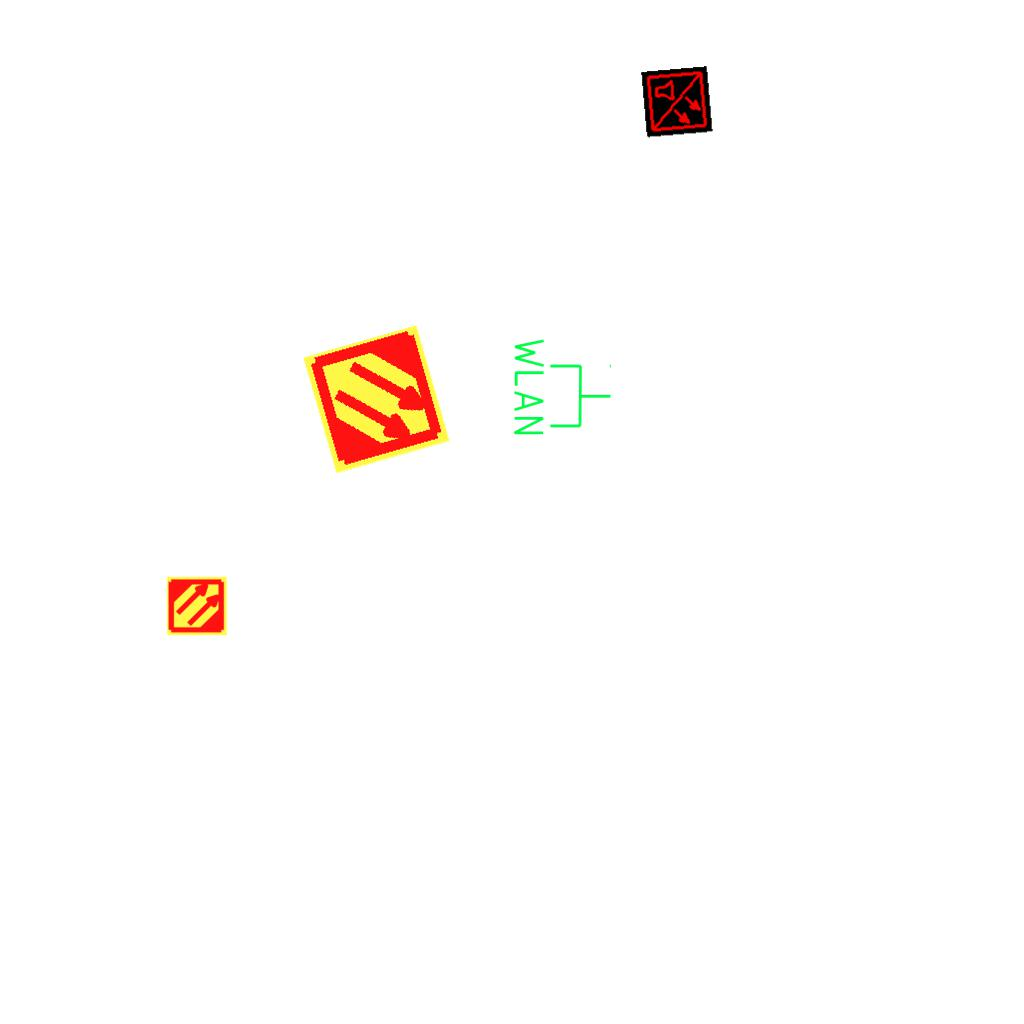ASR_Ansaugrauchmelder: (299, 322, 454, 477), (165, 574, 229, 638)
OKW_Multisensormelder_(Kombination_optischer_Rauch-Kahlenmonoxid_Waerme-Melder): (641, 66, 713, 138)
WLAN: (510, 334, 614, 439)
